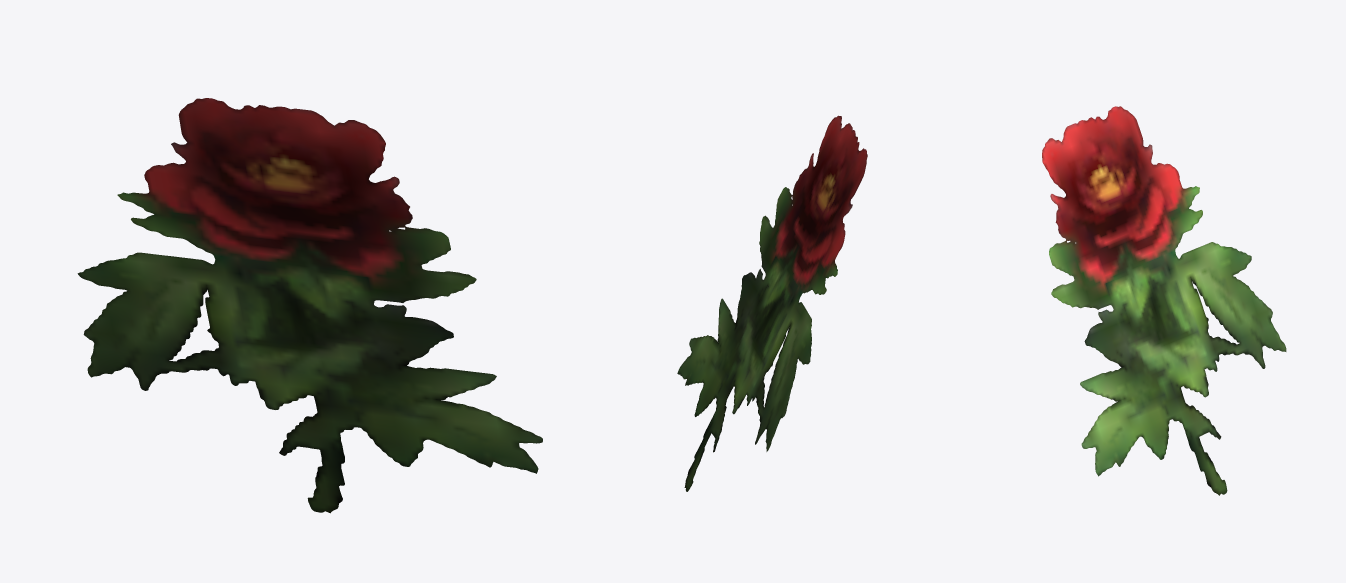
Rendered from xuemudan001_53_46_0502out.fbx.
3 renders of one model, left to right at view 1: azimuth 30°, elevation 25°; view 2: azimuth 150°, elevation 25°; view 3: azimuth 270°, elevation 25°, orthographic. The views are drawn at different scales.
Visible parts, largest first — view 1: xuemudan001; view 2: xuemudan001; view 3: xuemudan001.
Boxes of the visible parts, box(x1,y1,x2,y2) form: xuemudan001: box(77, 98, 542, 513); xuemudan001: box(677, 115, 867, 491); xuemudan001: box(1042, 106, 1286, 495).
Bounding box in the file's own units: 1.71 × 1.98 × 1.72.
